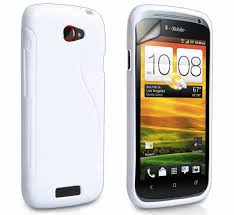htc: (121, 1, 212, 210)
